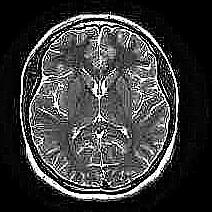Normal_Brain: (1, 1, 211, 212)
